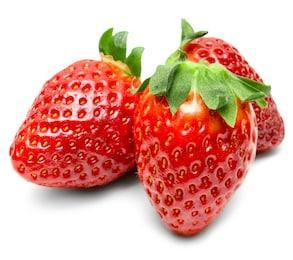Fresa: (129, 61, 259, 243), (8, 51, 150, 198), (172, 32, 288, 158)
